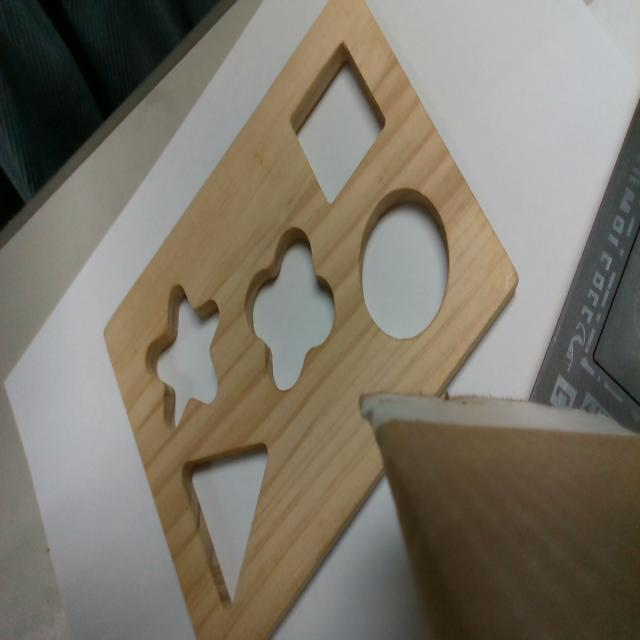circle: (360, 187, 449, 342)
square: (291, 41, 389, 212)
star: (246, 225, 335, 391), (145, 283, 220, 432)
triangle: (180, 440, 269, 607)
